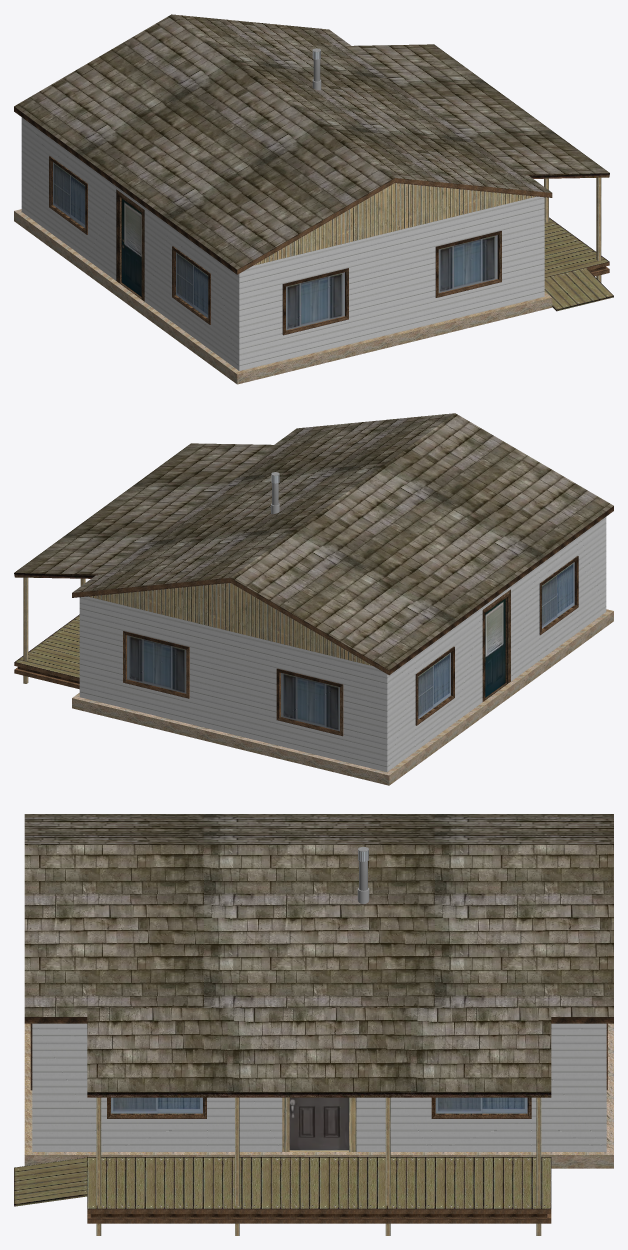
File: casa_p3.gltf
3 views of the same model, one above another, from view 1: azimuth 30°, elevation 25°; view 2: azimuth 150°, elevation 25°; view 3: azimuth 270°, elevation 25° (orthographic). The views are drawn at different scales.
Visible parts, largest first — view 1: casa_p3; view 2: casa_p3; view 3: casa_p3.
Part boxes in pixels (bbox=[...]): casa_p3: bbox=[14, 14, 613, 384]; casa_p3: bbox=[14, 413, 613, 785]; casa_p3: bbox=[14, 814, 613, 1235].
Size of the model in its own units: 10.19 by 5 by 10.12.
10 materials, 10 textured.
